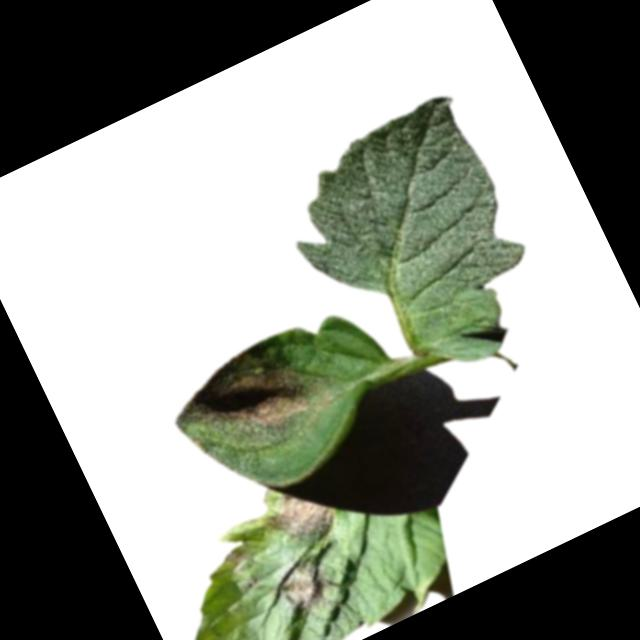Late_blight: (164, 333, 314, 462), (259, 478, 344, 559), (264, 550, 342, 623), (221, 541, 251, 571)
healthy: (263, 89, 562, 413)
